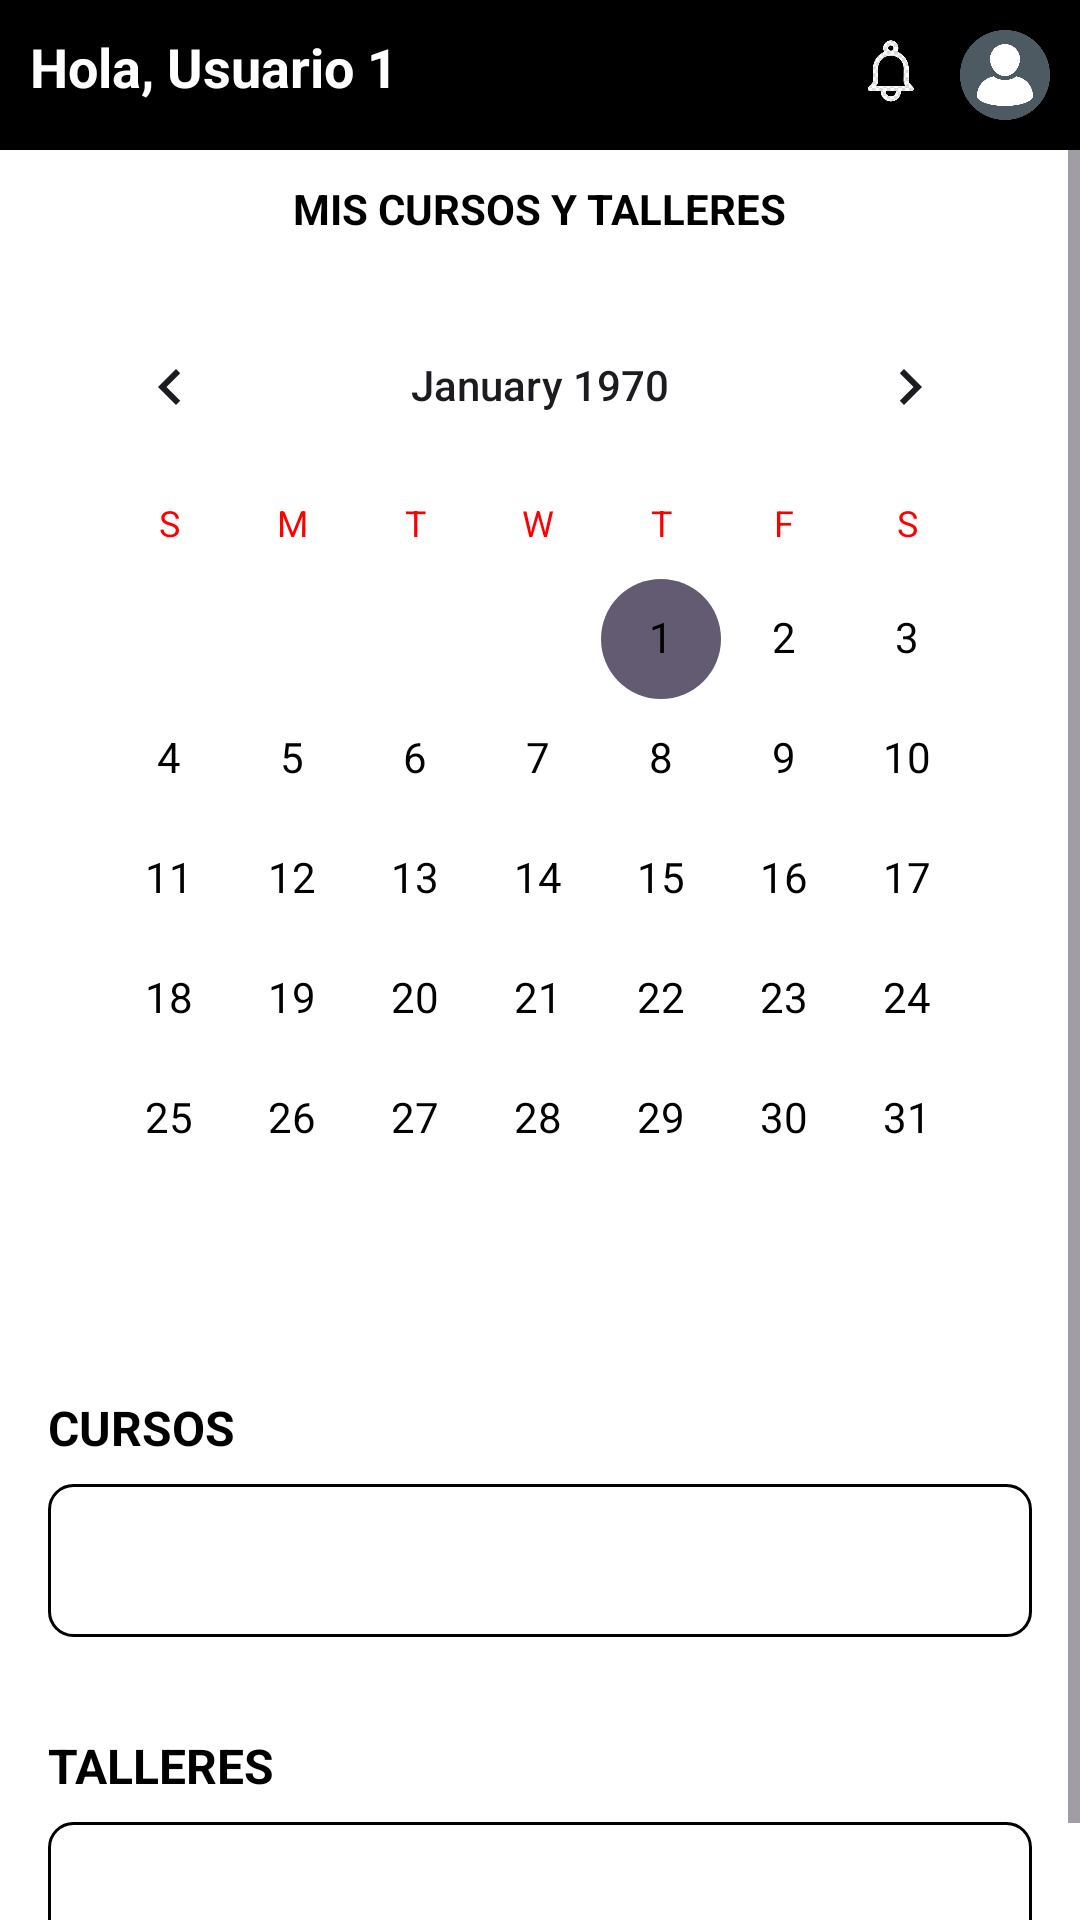

Screen size 1080px x 1920px. Icon name, then its center in pixels as (x,y):
bell: (891,71)
profile: (1005,75)
